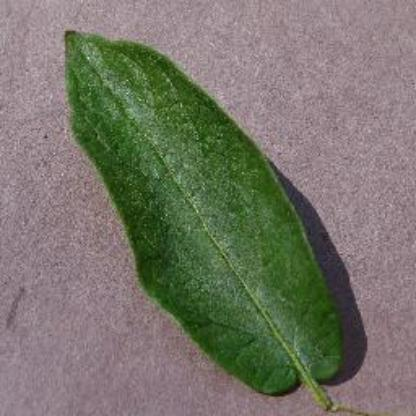Healthy-plant: (61, 27, 355, 410)
